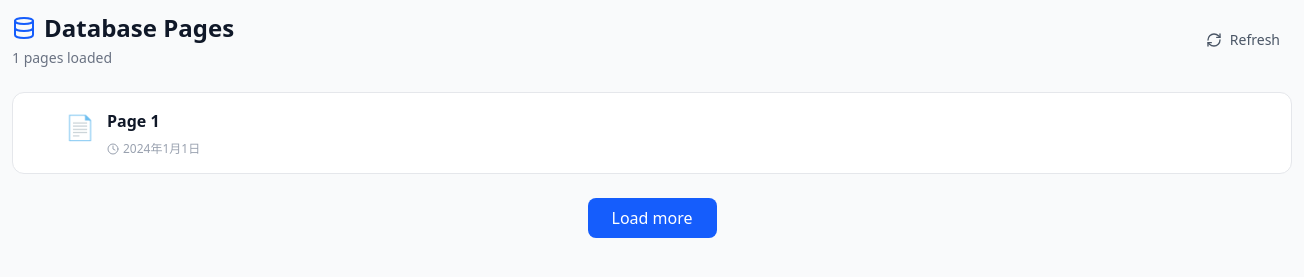
Test: PageList › should load more pages when clicking Load more button
Expected: the heading "Page 1" is shown, [107,110,160,132]
Click Load more button
What coordinates should you click on to do the following:
click the button "Load more"
I would click on:
 (652, 218)
Its box is [588,198,716,238].
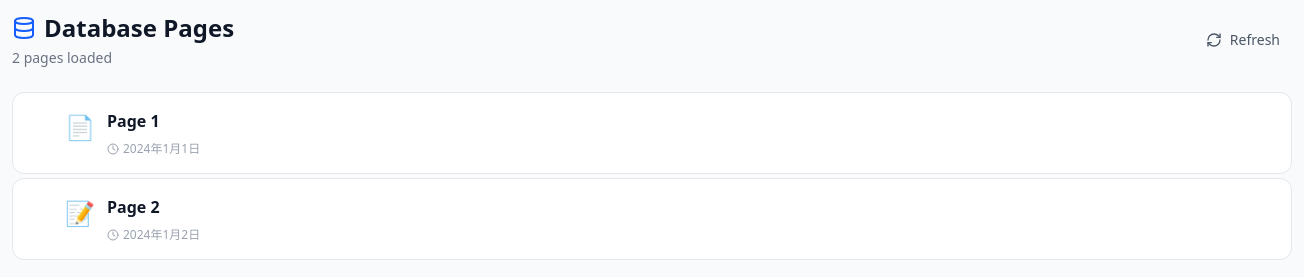
Now the heading "Page 2" is shown, box [107,196,160,218]
